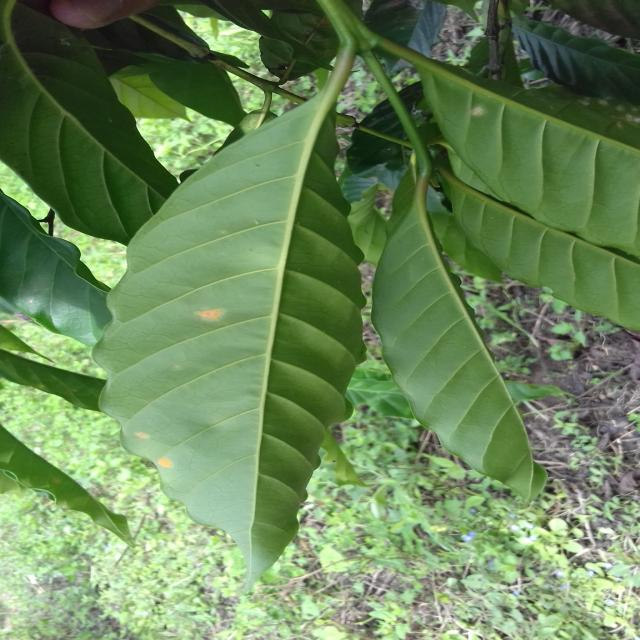Enfermedad-Roya: (100, 52, 359, 585)
